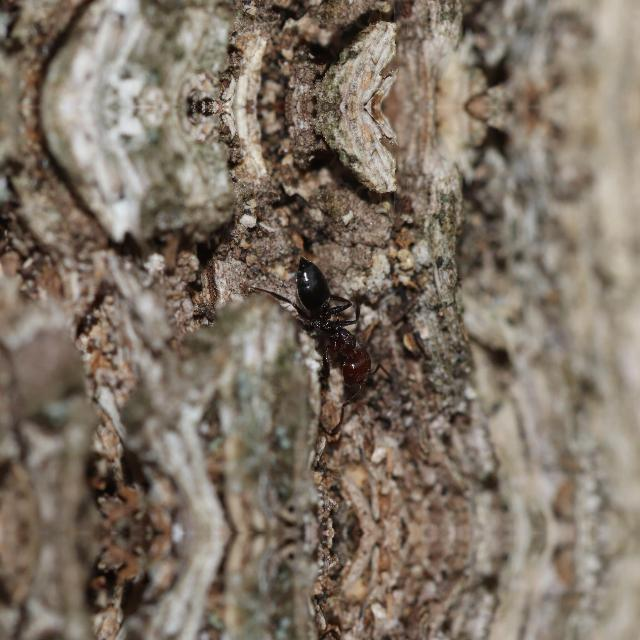Crematogaster: (272, 248, 382, 394)
